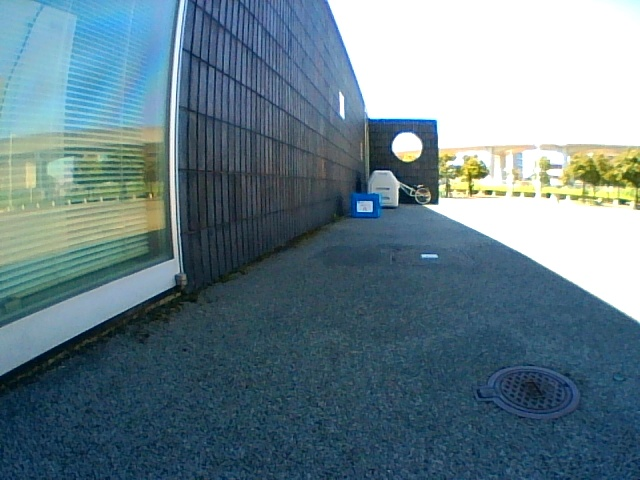blue_box: (349, 193, 380, 218)
tag: (357, 200, 373, 211)
